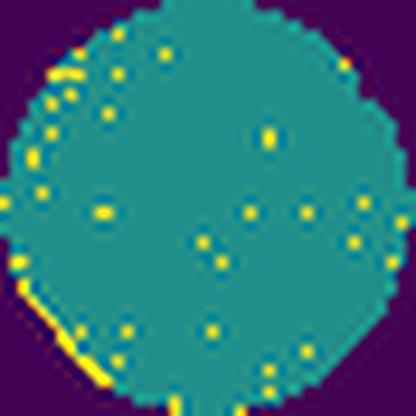Edge-Loc: (15, 277, 114, 391)
